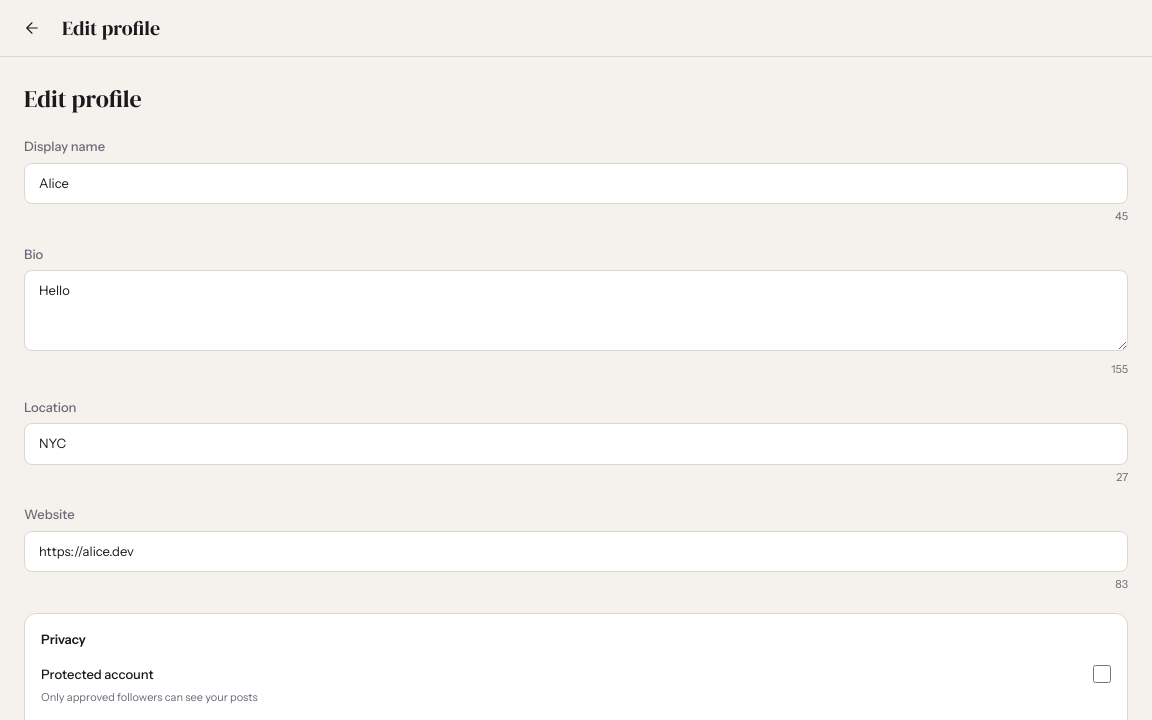
Test: SettingsPage › shows validation error when display name is empty
The image size is (1152, 720).
Clear the field with test id "settings-display-name" at (576, 183), box [24,162,1128,204]
(page scrolled)
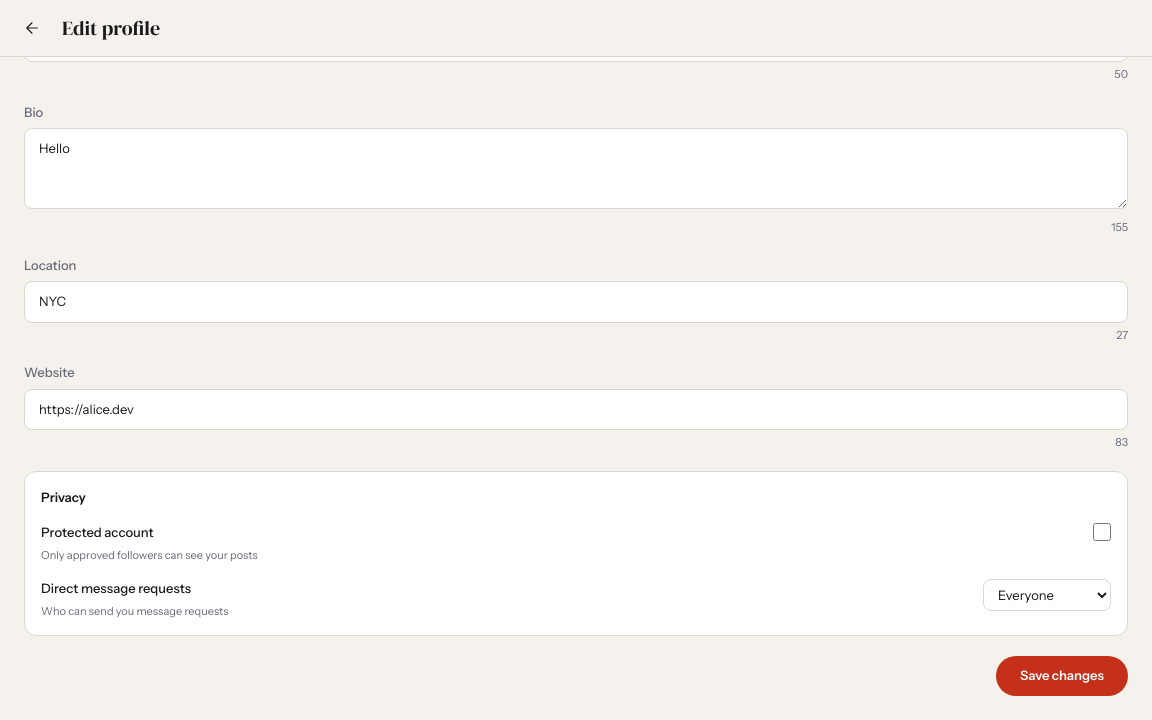
Click the button with test id "settings-save-button" at (1062, 676), box [996,656,1128,696]
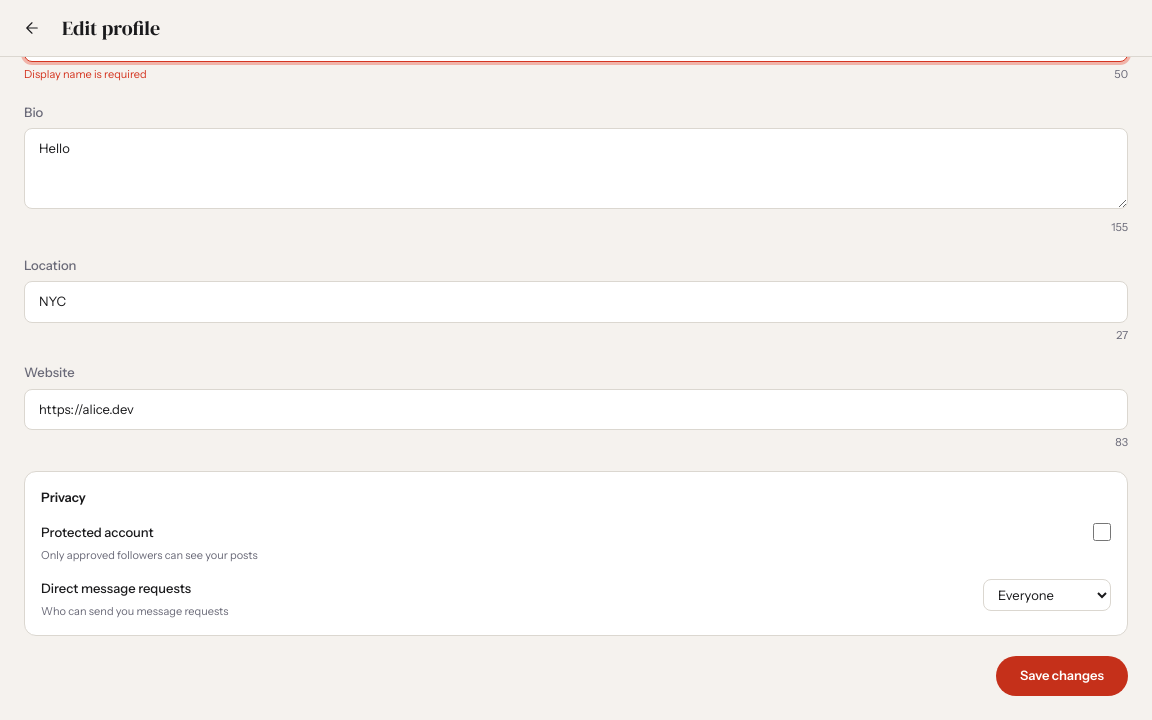
Result: the text "Display name is required" is shown at [24,67,147,81]
